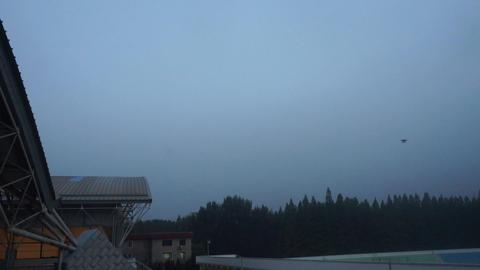UAV: (400, 139, 408, 144)
